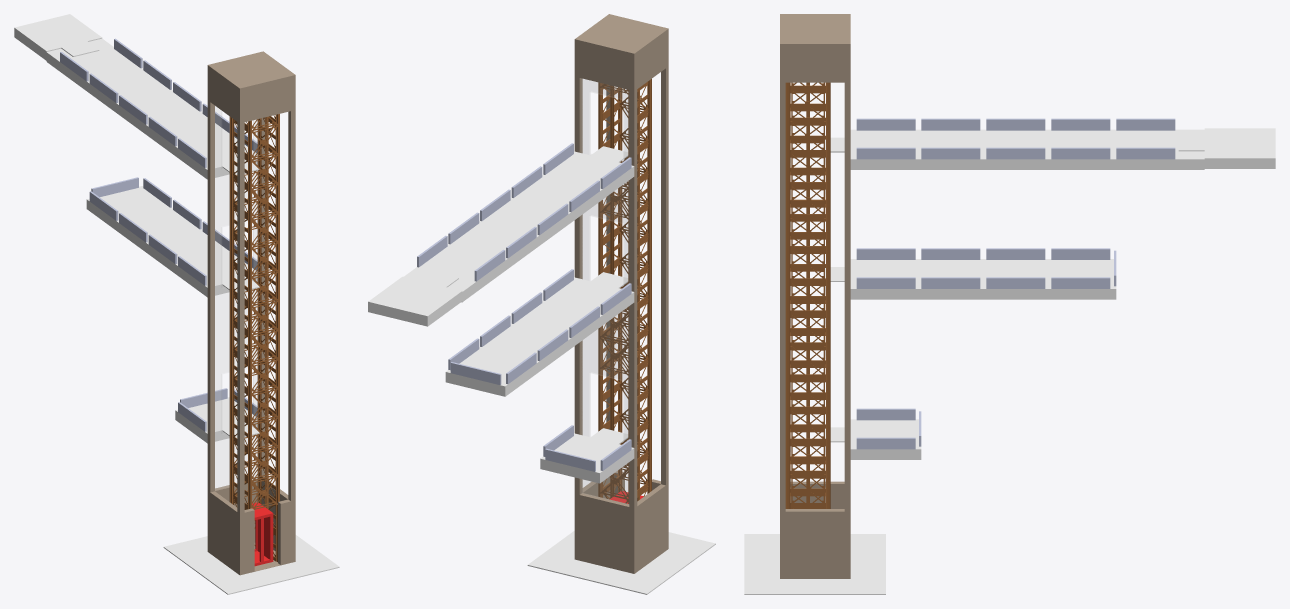
The model's file is asset.gltf.
The picture shows the model from 3 angles, left to right: view 1: azimuth 30°, elevation 25°; view 2: azimuth 150°, elevation 25°; view 3: azimuth 270°, elevation 25°; orthographic projection. The views are drawn at different scales.
Visible parts, largest first — view 1: Object_50, Object_198, Object_197, Object_201, Object_213, Object_203, Object_43, Object_46, Object_45, Object_204, Object_51, Object_47 (+3 smaller); view 2: Object_50, Object_198, Object_201, Object_197, Object_213, Object_203, Object_204, Object_45, Object_51, Object_47, Object_46, Object_44 (+3 smaller); view 3: Object_50, Object_198, Object_197, Object_213, Object_203, Object_46, Object_204, Object_47, Object_51, Object_181, Object_183, Object_185 (+17 smaller).
Boxes of the visible parts, x1,y1,x2,y2 form: Object_50: (207,51,295,575); Object_198: (46,38,259,179); Object_197: (86,186,259,297); Object_201: (215,106,257,489); Object_213: (163,535,339,594); Object_203: (14,14,102,60); Object_43: (229,116,233,504); Object_46: (276,114,279,561); Object_45: (248,120,251,509); Object_204: (175,397,259,443); Object_51: (265,117,268,509); Object_47: (257,118,260,503); Object_50: (574,14,668,573); Object_198: (404,146,634,302); Object_201: (581,79,628,504); Object_197: (445,272,634,396); Object_213: (527,531,715,594); Object_203: (368,271,462,326); Object_204: (540,428,634,483); Object_45: (648,79,651,493); Object_51: (610,85,614,498); Object_47: (598,82,602,497); Object_46: (619,87,622,492); Object_44: (637,90,639,501); Object_50: (780,14,850,578); Object_198: (825,129,1204,169); Object_197: (825,259,1116,299); Object_213: (744,534,885,594); Object_203: (1178,128,1275,168); Object_46: (785,82,790,508); Object_204: (825,419,921,459); Object_47: (826,82,830,508); Object_51: (806,82,809,502); Object_181: (1116,118,1175,130); Object_183: (856,118,915,130); Object_185: (1051,118,1110,130).
Bounding box in the file's own units: 6 × 25.06 × 22.5.
